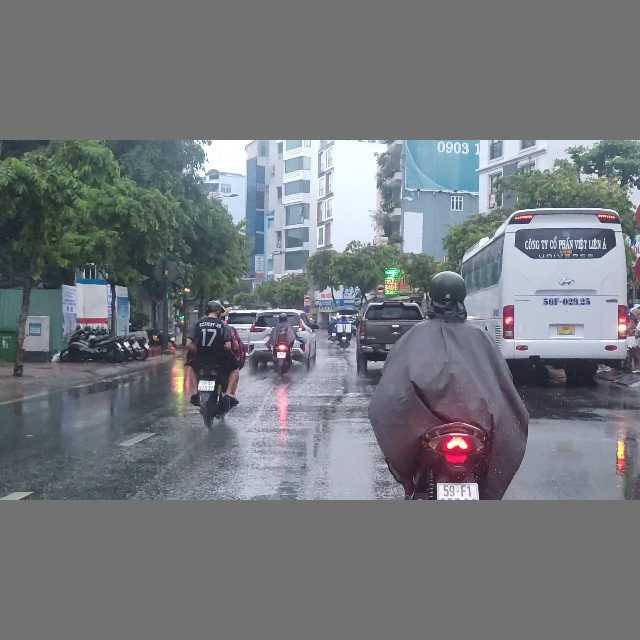P.106a*Xe tai: (376, 283, 385, 294), (303, 294, 311, 302)
P.131a: (304, 305, 311, 313)
